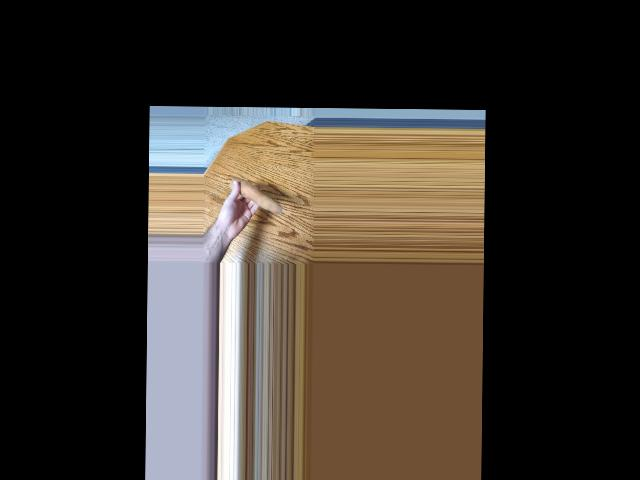sweet_potato: (228, 177, 282, 214)
